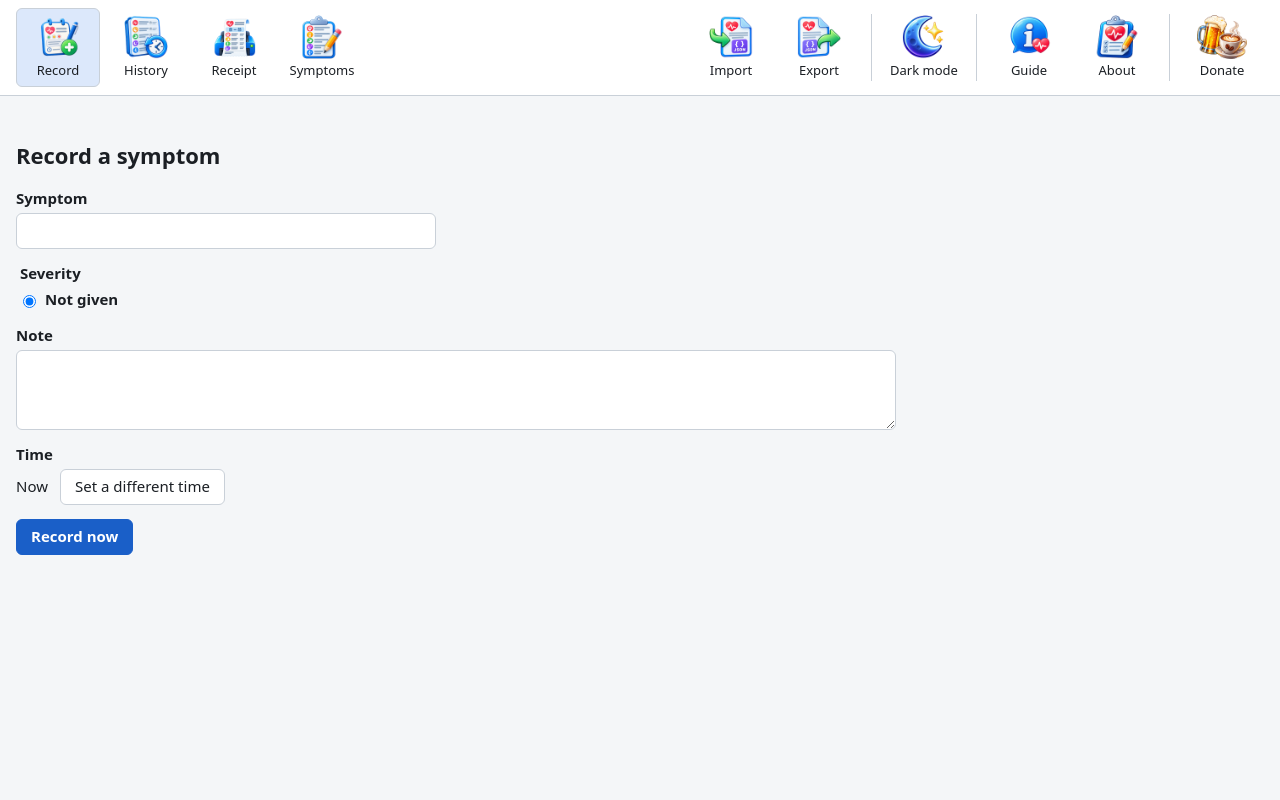
Test: the shell › says so when the donation page could not be opened
The image size is (1280, 800).
Expected: the heading "Record a symptom" is shown, [16,140,220,170]
Click the button "Donate" at (1222, 47), box [1180,8,1264,87]
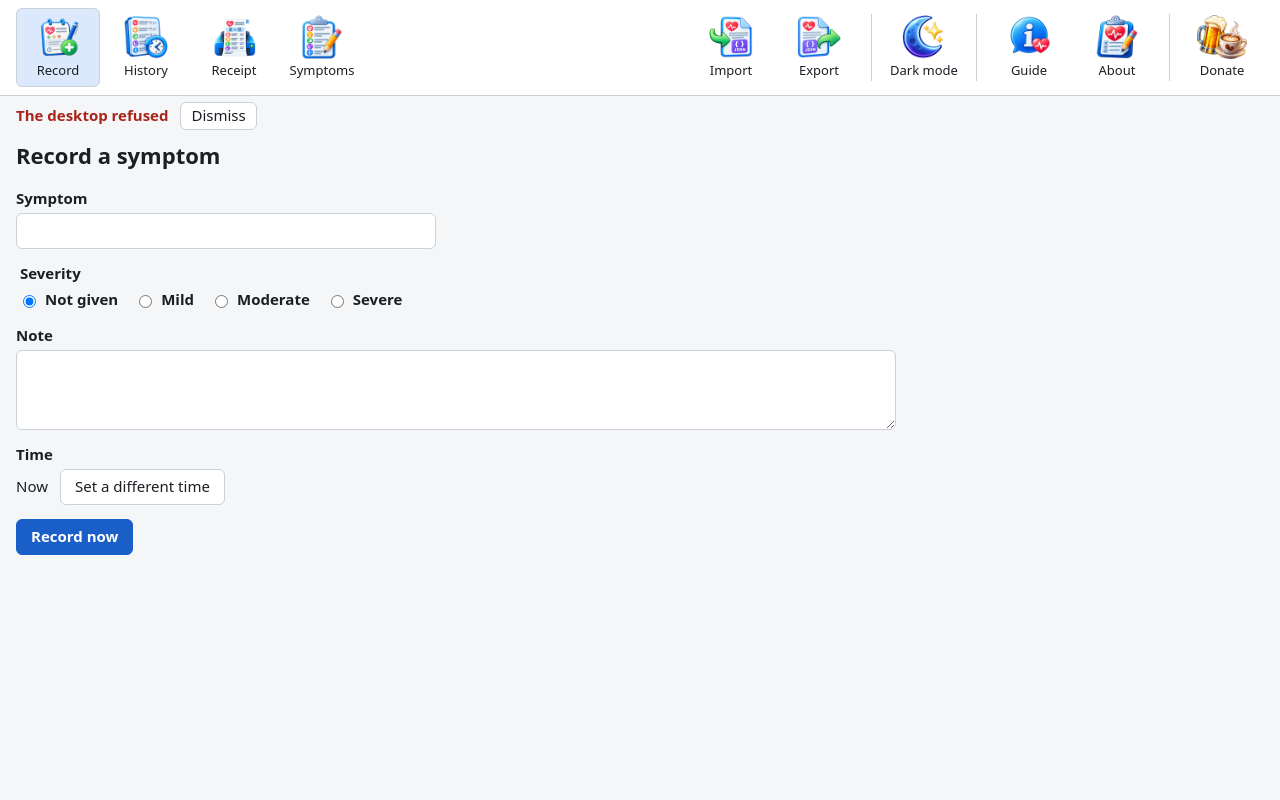
Expected: the text "The desktop refused" is shown, [16,105,168,127]
